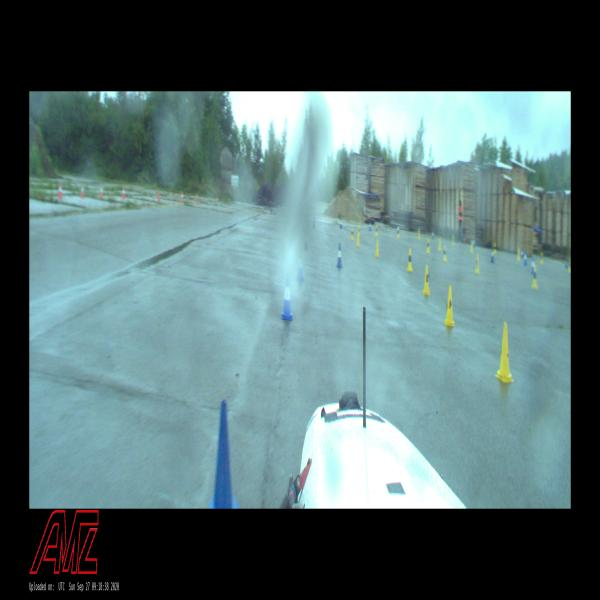blue_cone: (208, 399, 240, 508), (281, 279, 293, 320), (336, 243, 343, 268), (524, 251, 527, 266), (531, 258, 534, 273), (490, 248, 493, 262), (339, 219, 343, 229)
orange_cone: (56, 184, 62, 199), (78, 184, 84, 199), (97, 186, 103, 199), (120, 186, 125, 200), (179, 192, 184, 202)
yellow_cone: (495, 322, 514, 384), (444, 286, 455, 327), (422, 265, 430, 295), (406, 248, 413, 272), (531, 266, 538, 288), (374, 238, 379, 258), (474, 255, 479, 274), (443, 245, 447, 261), (426, 238, 430, 254), (356, 232, 360, 247), (350, 227, 354, 241), (374, 224, 378, 237), (416, 229, 420, 240), (493, 241, 496, 255), (470, 240, 473, 253), (438, 237, 441, 250), (396, 227, 399, 238)
